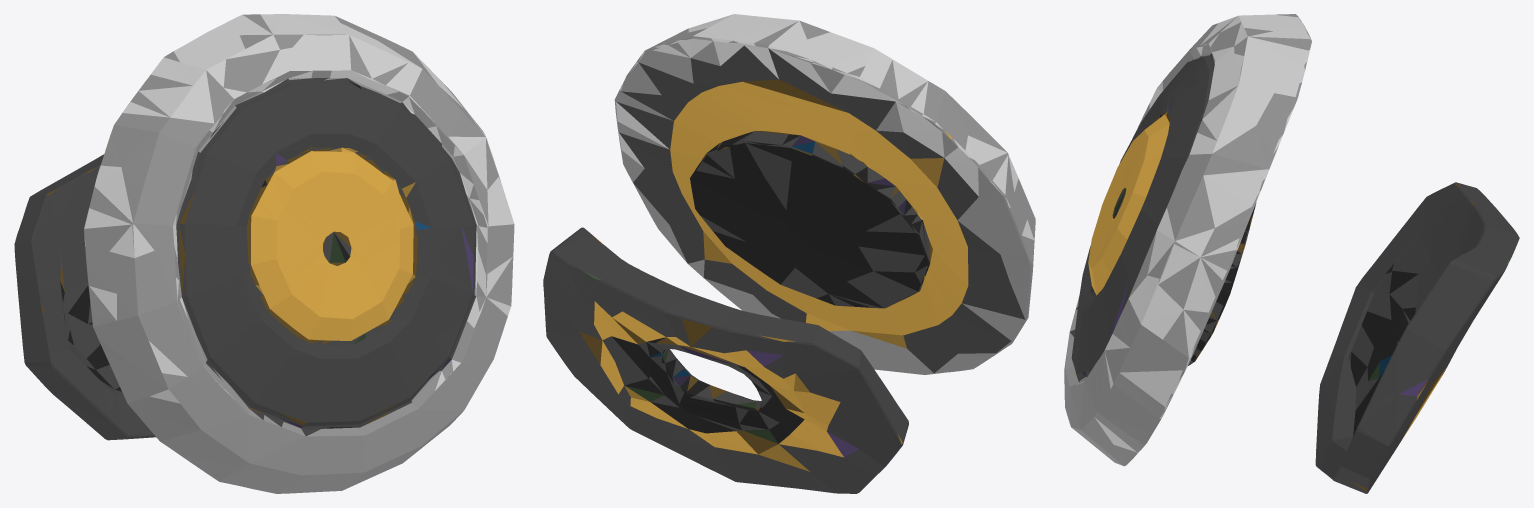
File: milo_disc.glb
3 renders of one model, left to right at view 1: azimuth 30°, elevation 25°; view 2: azimuth 150°, elevation 25°; view 3: azimuth 270°, elevation 25°, orthographic. The views are drawn at different scales.
Parts seen in each view (by area): view 1: node_0; view 2: node_0; view 3: node_0.
Part boxes in pixels (box(x1,y1,x2,y2)): node_0: box(14, 14, 514, 493); node_0: box(543, 14, 1035, 493); node_0: box(1064, 14, 1519, 493).
Bounding box in the file's own units: 1 × 0.9998 × 0.9436.
